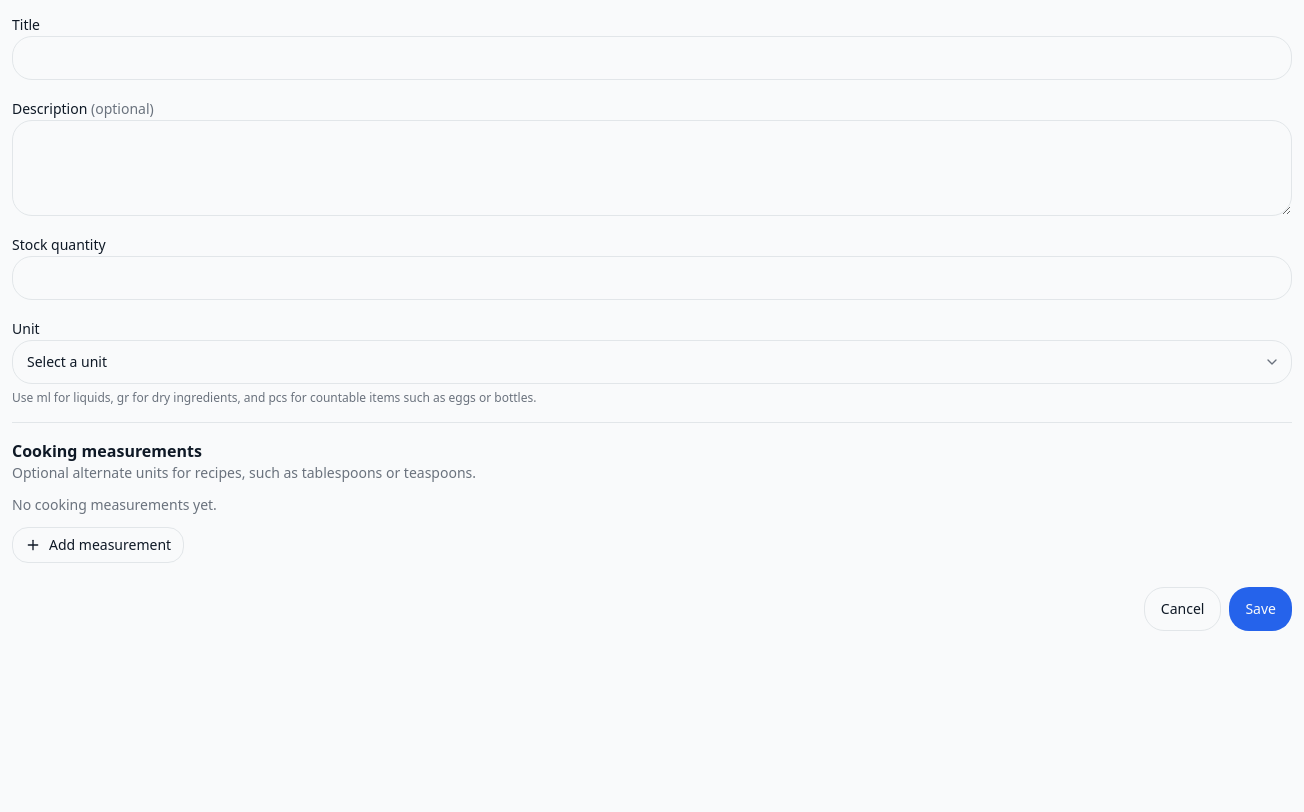
Test: FoodSupplyForm › requires a title and unit before submit
This screenshot has width=1304, height=812.
Click the button "Save".
click(1261, 609)  # box [1229, 587, 1292, 631]
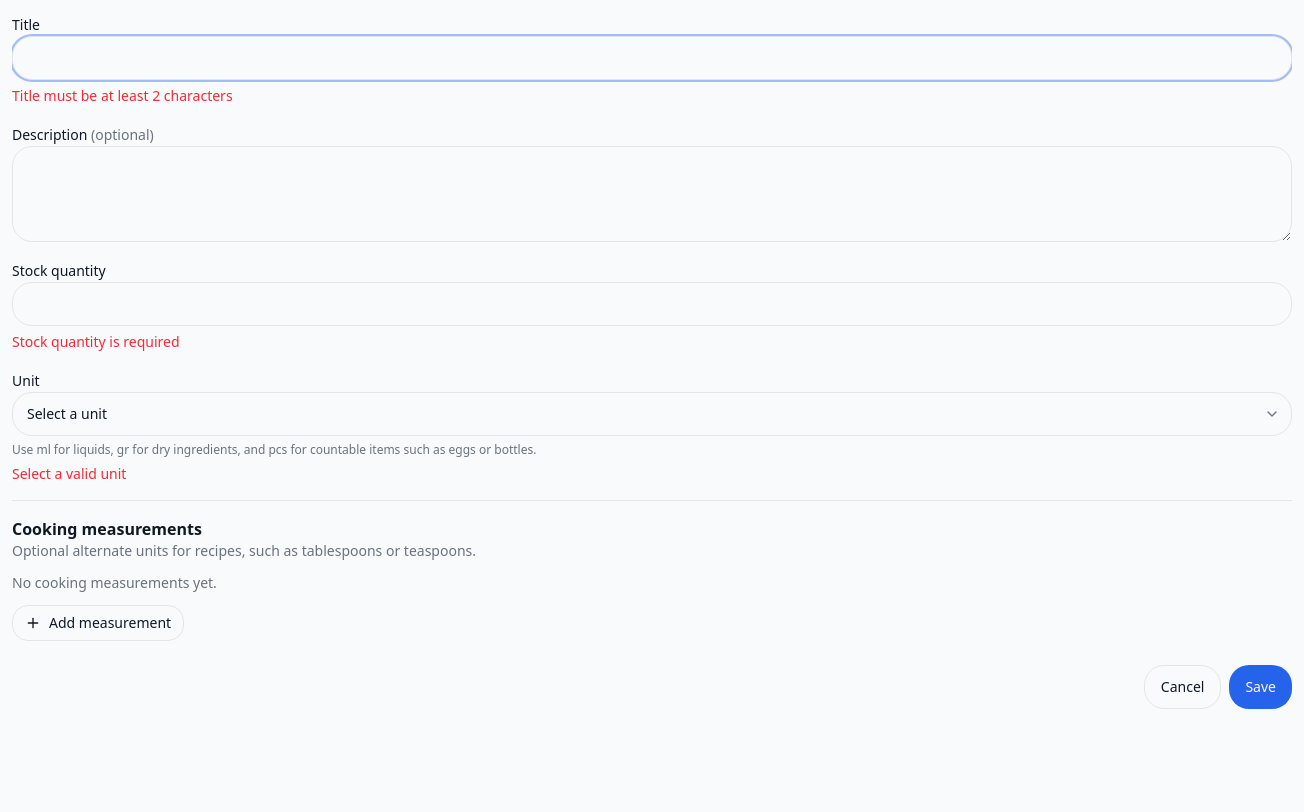
Check: the text "Title must be at least 2 characters" is shown, box [12, 86, 233, 105]
